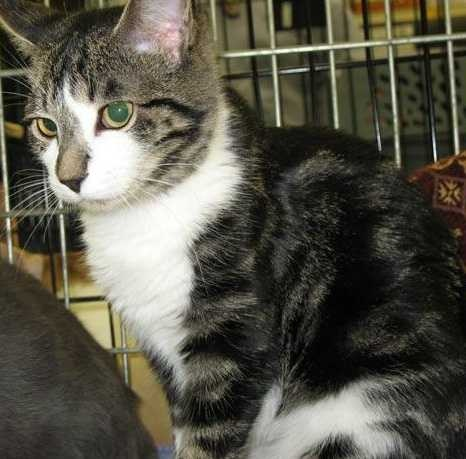Cat: (51, 57, 465, 458), (0, 0, 273, 392)
